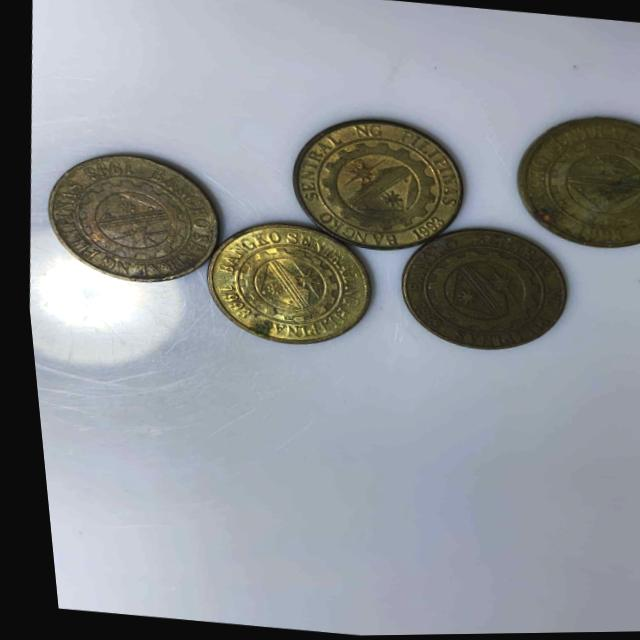25Cent_Old_Back: (271, 112, 484, 257), (385, 222, 569, 359), (39, 145, 216, 287), (200, 220, 373, 352), (506, 112, 640, 253)
